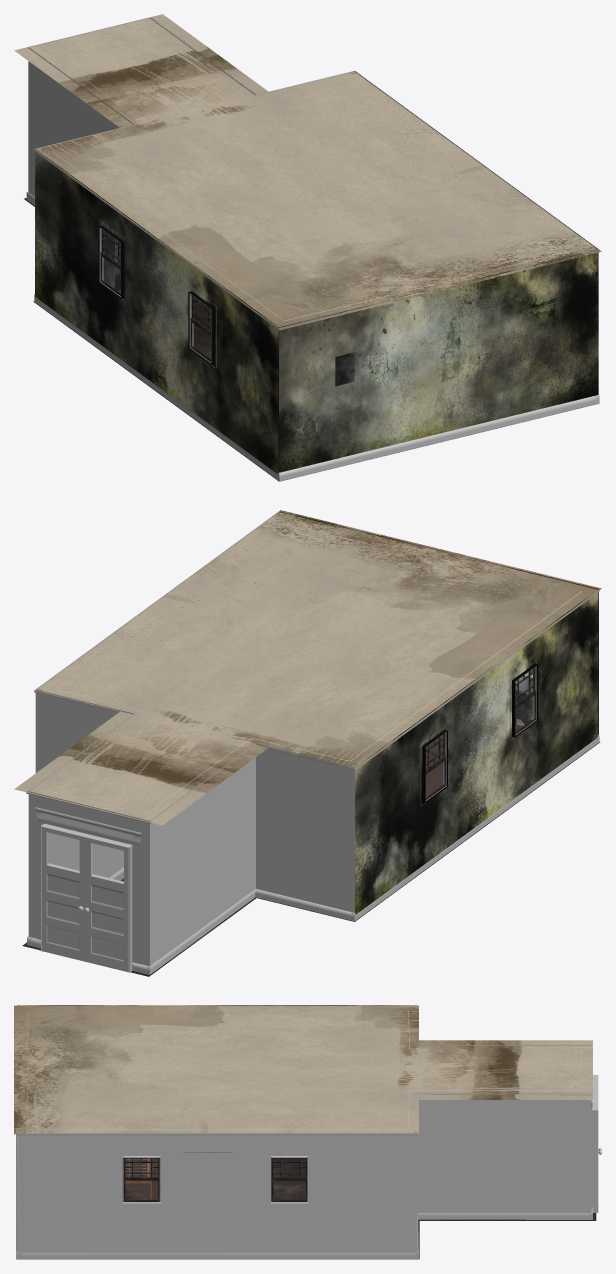
Rendered from FYP_infirmary_spencer_01.fbx.
The picture shows the model from 3 angles, top to bottom: view 1: azimuth 30°, elevation 25°; view 2: azimuth 150°, elevation 25°; view 3: azimuth 270°, elevation 25°; orthographic projection. The views are drawn at different scales.
Parts seen in each view (by area): view 1: ceiling, wall03, wall02, wall01, moulding_floor, moulding_ceiling, floor; view 2: ceiling, wall01, wall02, moulding_floor, polySurface121, polySurface120, moulding_ceiling, floor, pasted__polySurface112, pasted__polySurface113, sink; view 3: ceiling, wall04, wall01, moulding_floor, floor, moulding_ceiling, window1 (×2), pCube37 (×2), pCube38 (×2), polySurface120, wall02.
Boxes of the visible parts, x1,y1,x2,y2 form: ceiling: (14, 14, 601, 329); wall03: (279, 249, 598, 472); wall02: (35, 149, 278, 473); wall01: (28, 17, 354, 196); moulding_floor: (26, 192, 599, 481); moulding_ceiling: (28, 17, 599, 330); floor: (24, 198, 594, 481); ceiling: (14, 510, 601, 825); wall01: (28, 689, 354, 972); wall02: (355, 589, 598, 914); moulding_floor: (27, 718, 599, 974); polySurface121: (85, 835, 132, 972); polySurface120: (41, 824, 86, 961); moulding_ceiling: (26, 511, 599, 823); floor: (22, 724, 600, 976); pasted__polySurface112: (93, 844, 123, 881); pasted__polySurface113: (49, 833, 78, 870); sink: (515, 670, 532, 724); ceiling: (14, 1005, 592, 1134); wall04: (17, 1133, 417, 1252); wall01: (417, 1045, 598, 1212); moulding_floor: (16, 1100, 592, 1259); floor: (16, 1134, 596, 1259); moulding_ceiling: (17, 1005, 591, 1135); window1 (×2): (124, 1157, 307, 1201); pCube37 (×2): (126, 1181, 305, 1199); pCube38 (×2): (126, 1159, 305, 1176); polySurface120: (593, 1094, 597, 1212); wall02: (17, 1005, 417, 1005).
Bounding box in the file's own units: 18.41 × 8.38 × 34.99.
